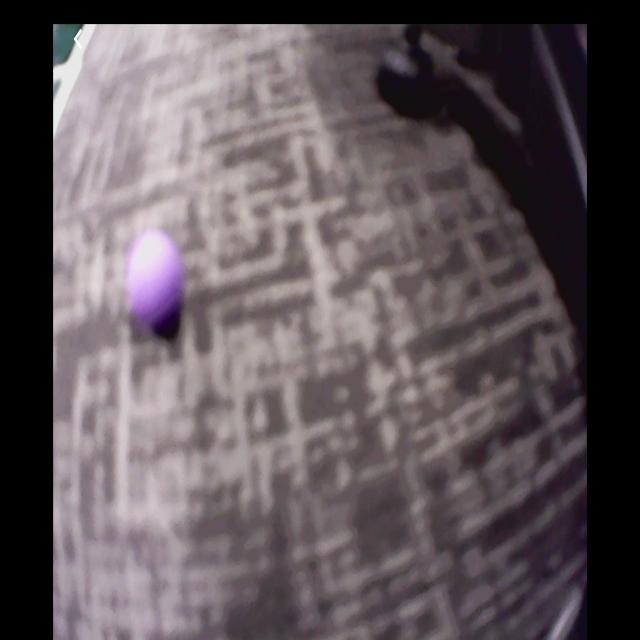ball: (127, 231, 186, 333)
